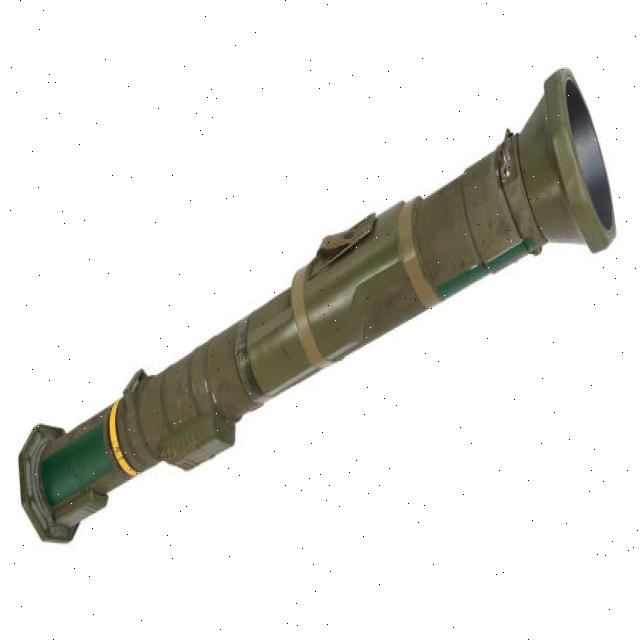bazooka: (9, 65, 623, 555)
